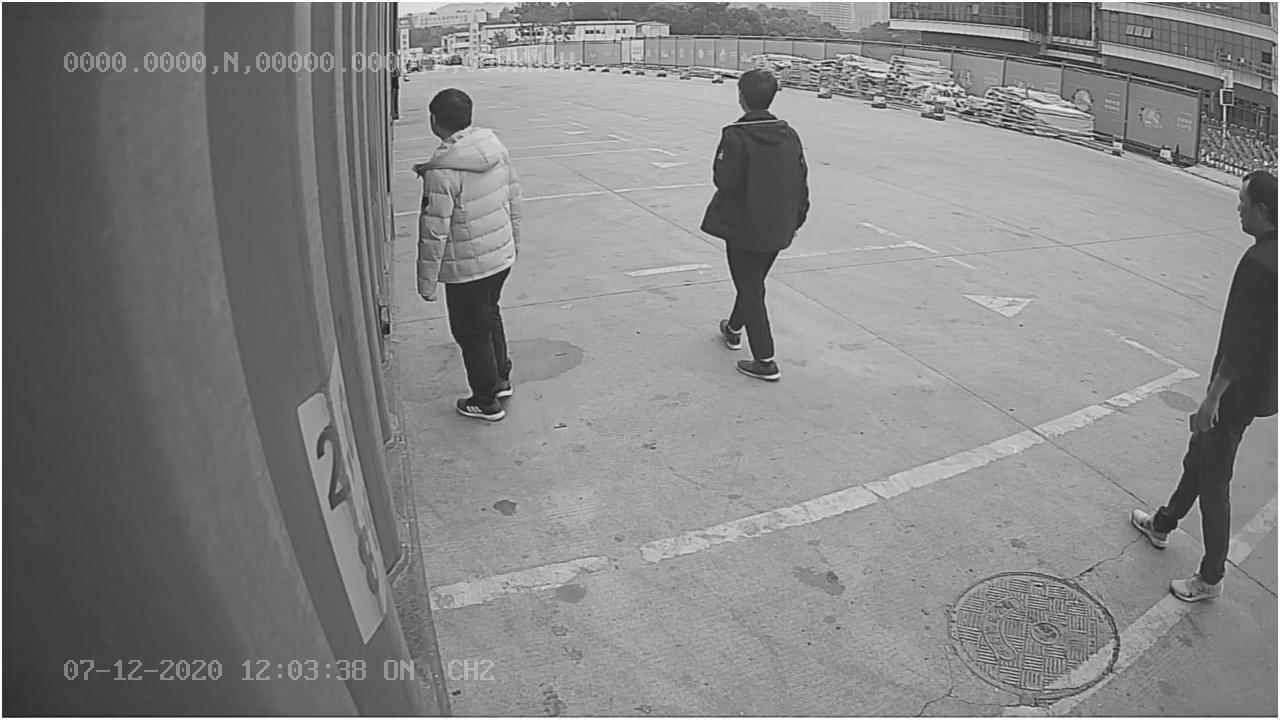person: (414, 79, 531, 425), (699, 62, 814, 382)
